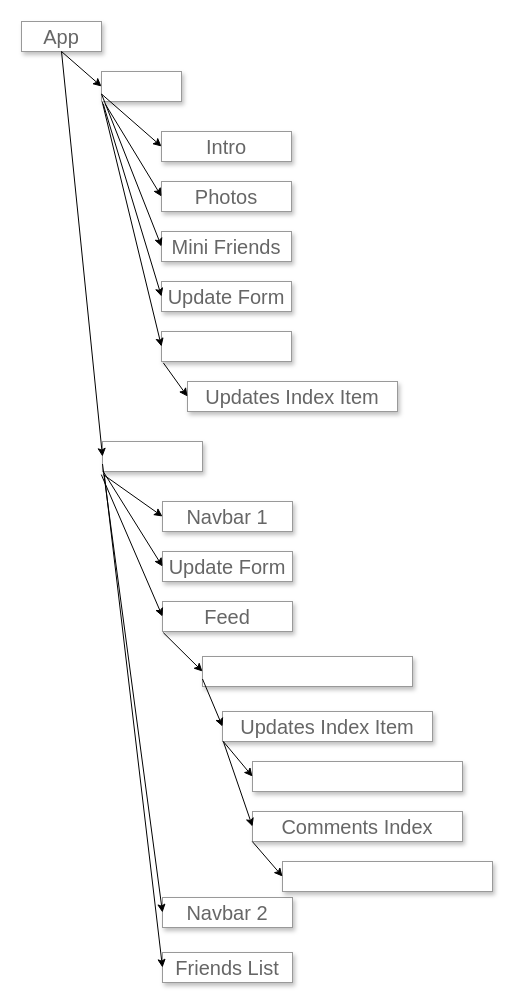
Some shapes in this 516 by 1007 pixel diagram are drawn without their labels. Each missing label, with the centre of its shape:
"Comments Index Item" goes at point 388,877.
"Newsfeed" goes at point 153,457.
"Profile" goes at point 142,87.
"Reactions" goes at point 358,777.
"Timeline" goes at point 227,347.
"Updates Index" goes at point 308,673.
